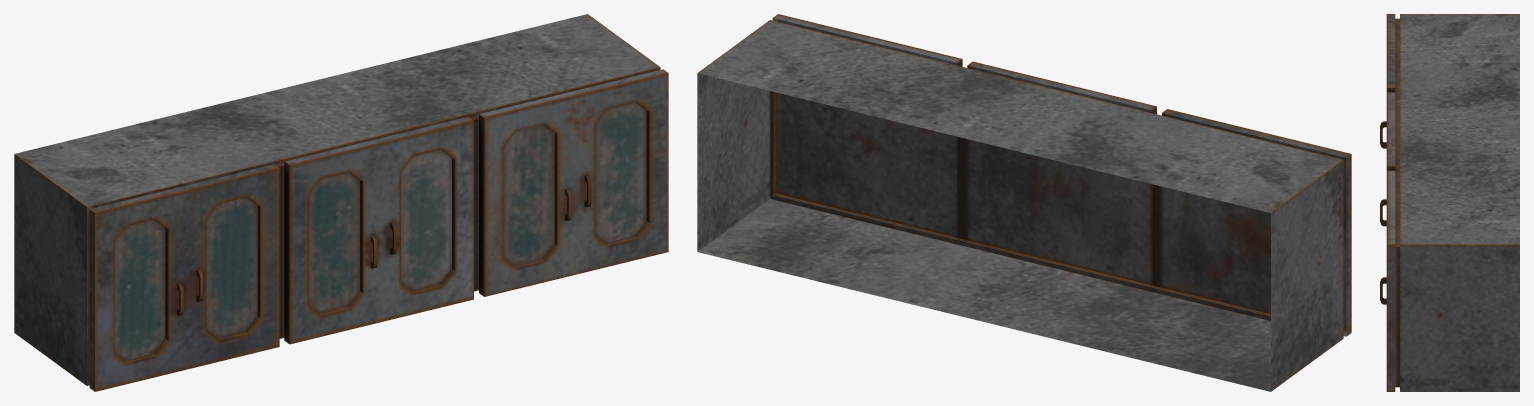
The model's file is MountedCabinets.FBX.
The picture shows the model from 3 angles, left to right: view 1: azimuth 30°, elevation 25°; view 2: azimuth 150°, elevation 25°; view 3: azimuth 270°, elevation 25°; orthographic projection. The views are drawn at different scales.
Parts seen in each view (by area): view 1: MountedCabinets; view 2: MountedCabinets; view 3: MountedCabinets.
Part boxes in pixels (x1=…): MountedCabinets: x1=14, y1=14, x2=668, y2=391; MountedCabinets: x1=697, y1=14, x2=1351, y2=391; MountedCabinets: x1=1380, y1=14, x2=1519, y2=391.
Size of the model in its own units: 250 by 74.45 by 63.97.
